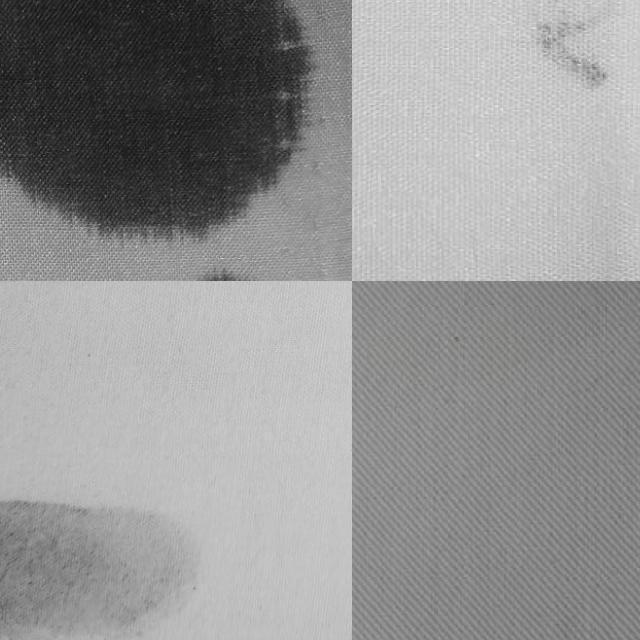Hole: (0, 466, 222, 640), (516, 0, 622, 108)
